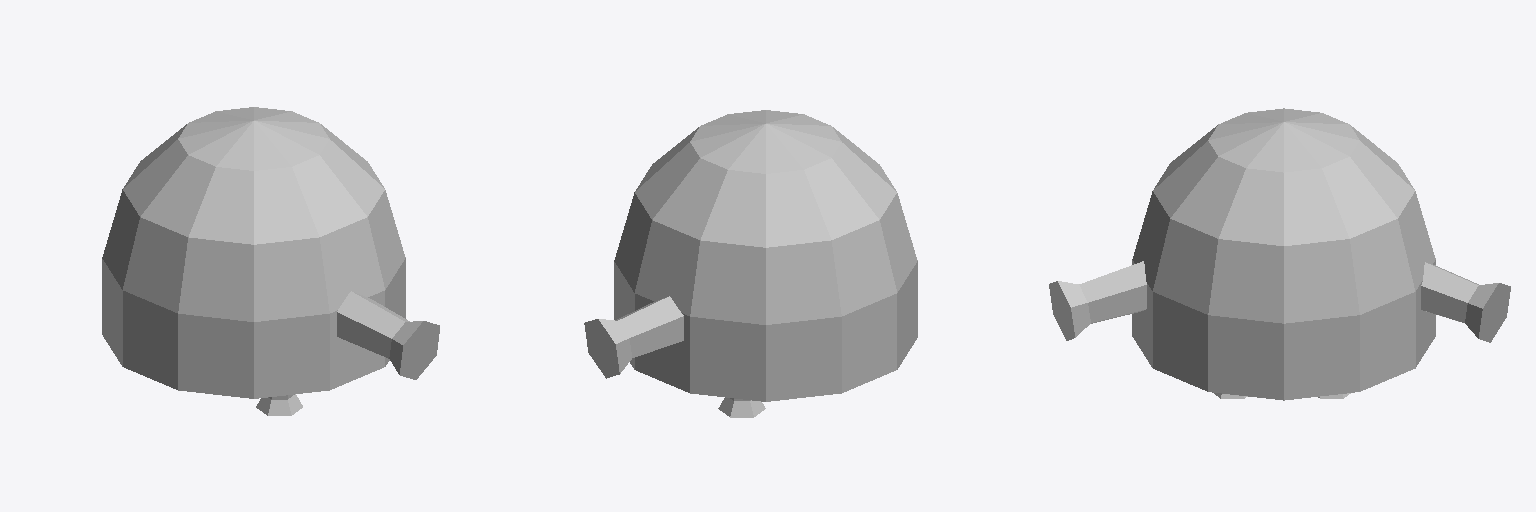
Rendered from scary_ghost.obj.
3 views of the same model, side by side, from view 1: azimuth 30°, elevation 25°; view 2: azimuth 150°, elevation 25°; view 3: azimuth 270°, elevation 25° (orthographic).
Visible parts, largest first — view 1: Sphere_Sphere.002; view 2: Sphere_Sphere.002; view 3: Sphere_Sphere.002.
Part boxes in pixels (left/top/right/bottom): Sphere_Sphere.002: left=102, top=107, right=439, bottom=415; Sphere_Sphere.002: left=584, top=110, right=917, bottom=417; Sphere_Sphere.002: left=1049, top=108, right=1510, bottom=400.
Size of the model in its own units: 2 by 1.95 by 3.05.